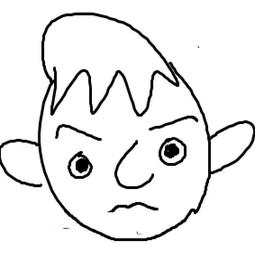ear: (203, 115, 255, 177), (0, 133, 47, 193)
eye: (153, 135, 190, 169), (64, 147, 95, 182)
frowning_eyebrow: (45, 120, 106, 144), (145, 112, 199, 133)
line_unsmiling_mouth: (99, 198, 165, 217)
nose: (113, 137, 156, 191)
